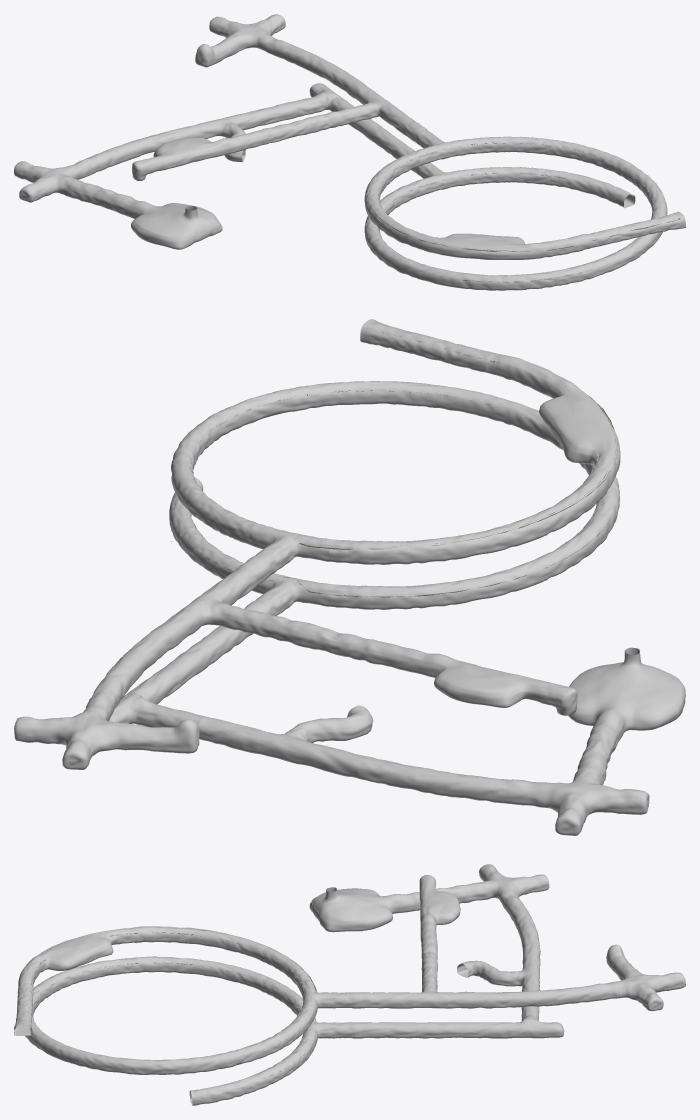
File: GrupoTunel.fbx
3 views of the same model, one above another, from view 1: azimuth 30°, elevation 25°; view 2: azimuth 150°, elevation 25°; view 3: azimuth 270°, elevation 25° (orthographic). The views are drawn at different scales.
Visible parts, largest first — view 1: Recorrido9, Recorrido13, Tramo2, Recorrido6, Recorrido5, Recorrido3, Recorrido12, Recorrido1, Tramo1, Recorrido2, Recorrido11, Recorrido10 (+1 smaller); view 2: Recorrido6, Tramo2, Recorrido13, Recorrido9, Recorrido3, Recorrido12, Recorrido5, Recorrido2, Tramo1, Recorrido4, Recorrido10, Recorrido11 (+1 smaller); view 3: Recorrido13, Recorrido9, Tramo2, Recorrido3, Recorrido5, Recorrido6, Recorrido12, Recorrido2, Recorrido10, Recorrido1, Recorrido4, Tramo1 (+1 smaller).
Boxes of the visible parts, bbox=[...] form: Recorrido9: bbox=[364, 167, 592, 290]; Recorrido13: bbox=[195, 14, 443, 148]; Tramo2: bbox=[364, 151, 598, 259]; Recorrido6: bbox=[14, 92, 328, 202]; Recorrido5: bbox=[53, 174, 222, 249]; Recorrido3: bbox=[469, 136, 667, 278]; Recorrido12: bbox=[132, 101, 379, 180]; Recorrido1: bbox=[550, 170, 635, 208]; Tramo1: bbox=[593, 211, 685, 246]; Recorrido2: bbox=[354, 119, 443, 178]; Recorrido11: bbox=[416, 139, 471, 164]; Recorrido10: bbox=[309, 83, 355, 128]; Recorrido6: bbox=[132, 696, 649, 835]; Tramo2: bbox=[329, 353, 620, 564]; Recorrido13: bbox=[14, 535, 297, 769]; Recorrido9: bbox=[179, 398, 619, 609]; Recorrido3: bbox=[171, 381, 503, 544]; Recorrido12: bbox=[206, 601, 577, 715]; Recorrido5: bbox=[568, 647, 685, 784]; Recorrido2: bbox=[165, 580, 297, 684]; Tramo1: bbox=[360, 319, 494, 372]; Recorrido4: bbox=[285, 705, 373, 742]; Recorrido10: bbox=[109, 665, 183, 723]; Recorrido11: bbox=[249, 523, 332, 561]; Recorrido13: bbox=[313, 944, 685, 1011]; Recorrido9: bbox=[32, 956, 318, 1082]; Tramo2: bbox=[18, 926, 311, 989]; Recorrido3: bbox=[25, 1006, 315, 1074]; Recorrido5: bbox=[309, 879, 497, 932]; Recorrido6: bbox=[479, 864, 549, 1020]; Recorrido12: bbox=[419, 875, 460, 992]; Recorrido2: bbox=[313, 1022, 469, 1038]; Recorrido10: bbox=[469, 1018, 564, 1038]; Recorrido1: bbox=[189, 1068, 275, 1105]; Recorrido4: bbox=[457, 960, 525, 986]; Tramo1: bbox=[14, 983, 33, 1035].
Size of the model in its own units: 21985 by 2895 by 27754.
